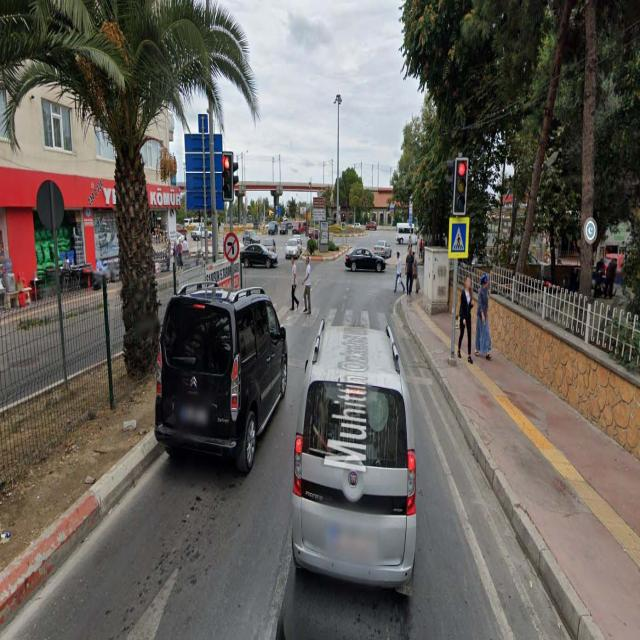kirmizi: (453, 157, 467, 216), (222, 151, 234, 202)
soladonulmez: (223, 232, 240, 262)
